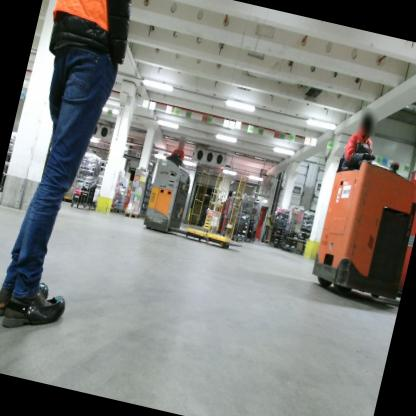pallet: (124, 208, 141, 220), (116, 207, 125, 216), (139, 211, 144, 221), (143, 212, 149, 220)
pallet_truck: (305, 141, 416, 306), (137, 147, 250, 253)
